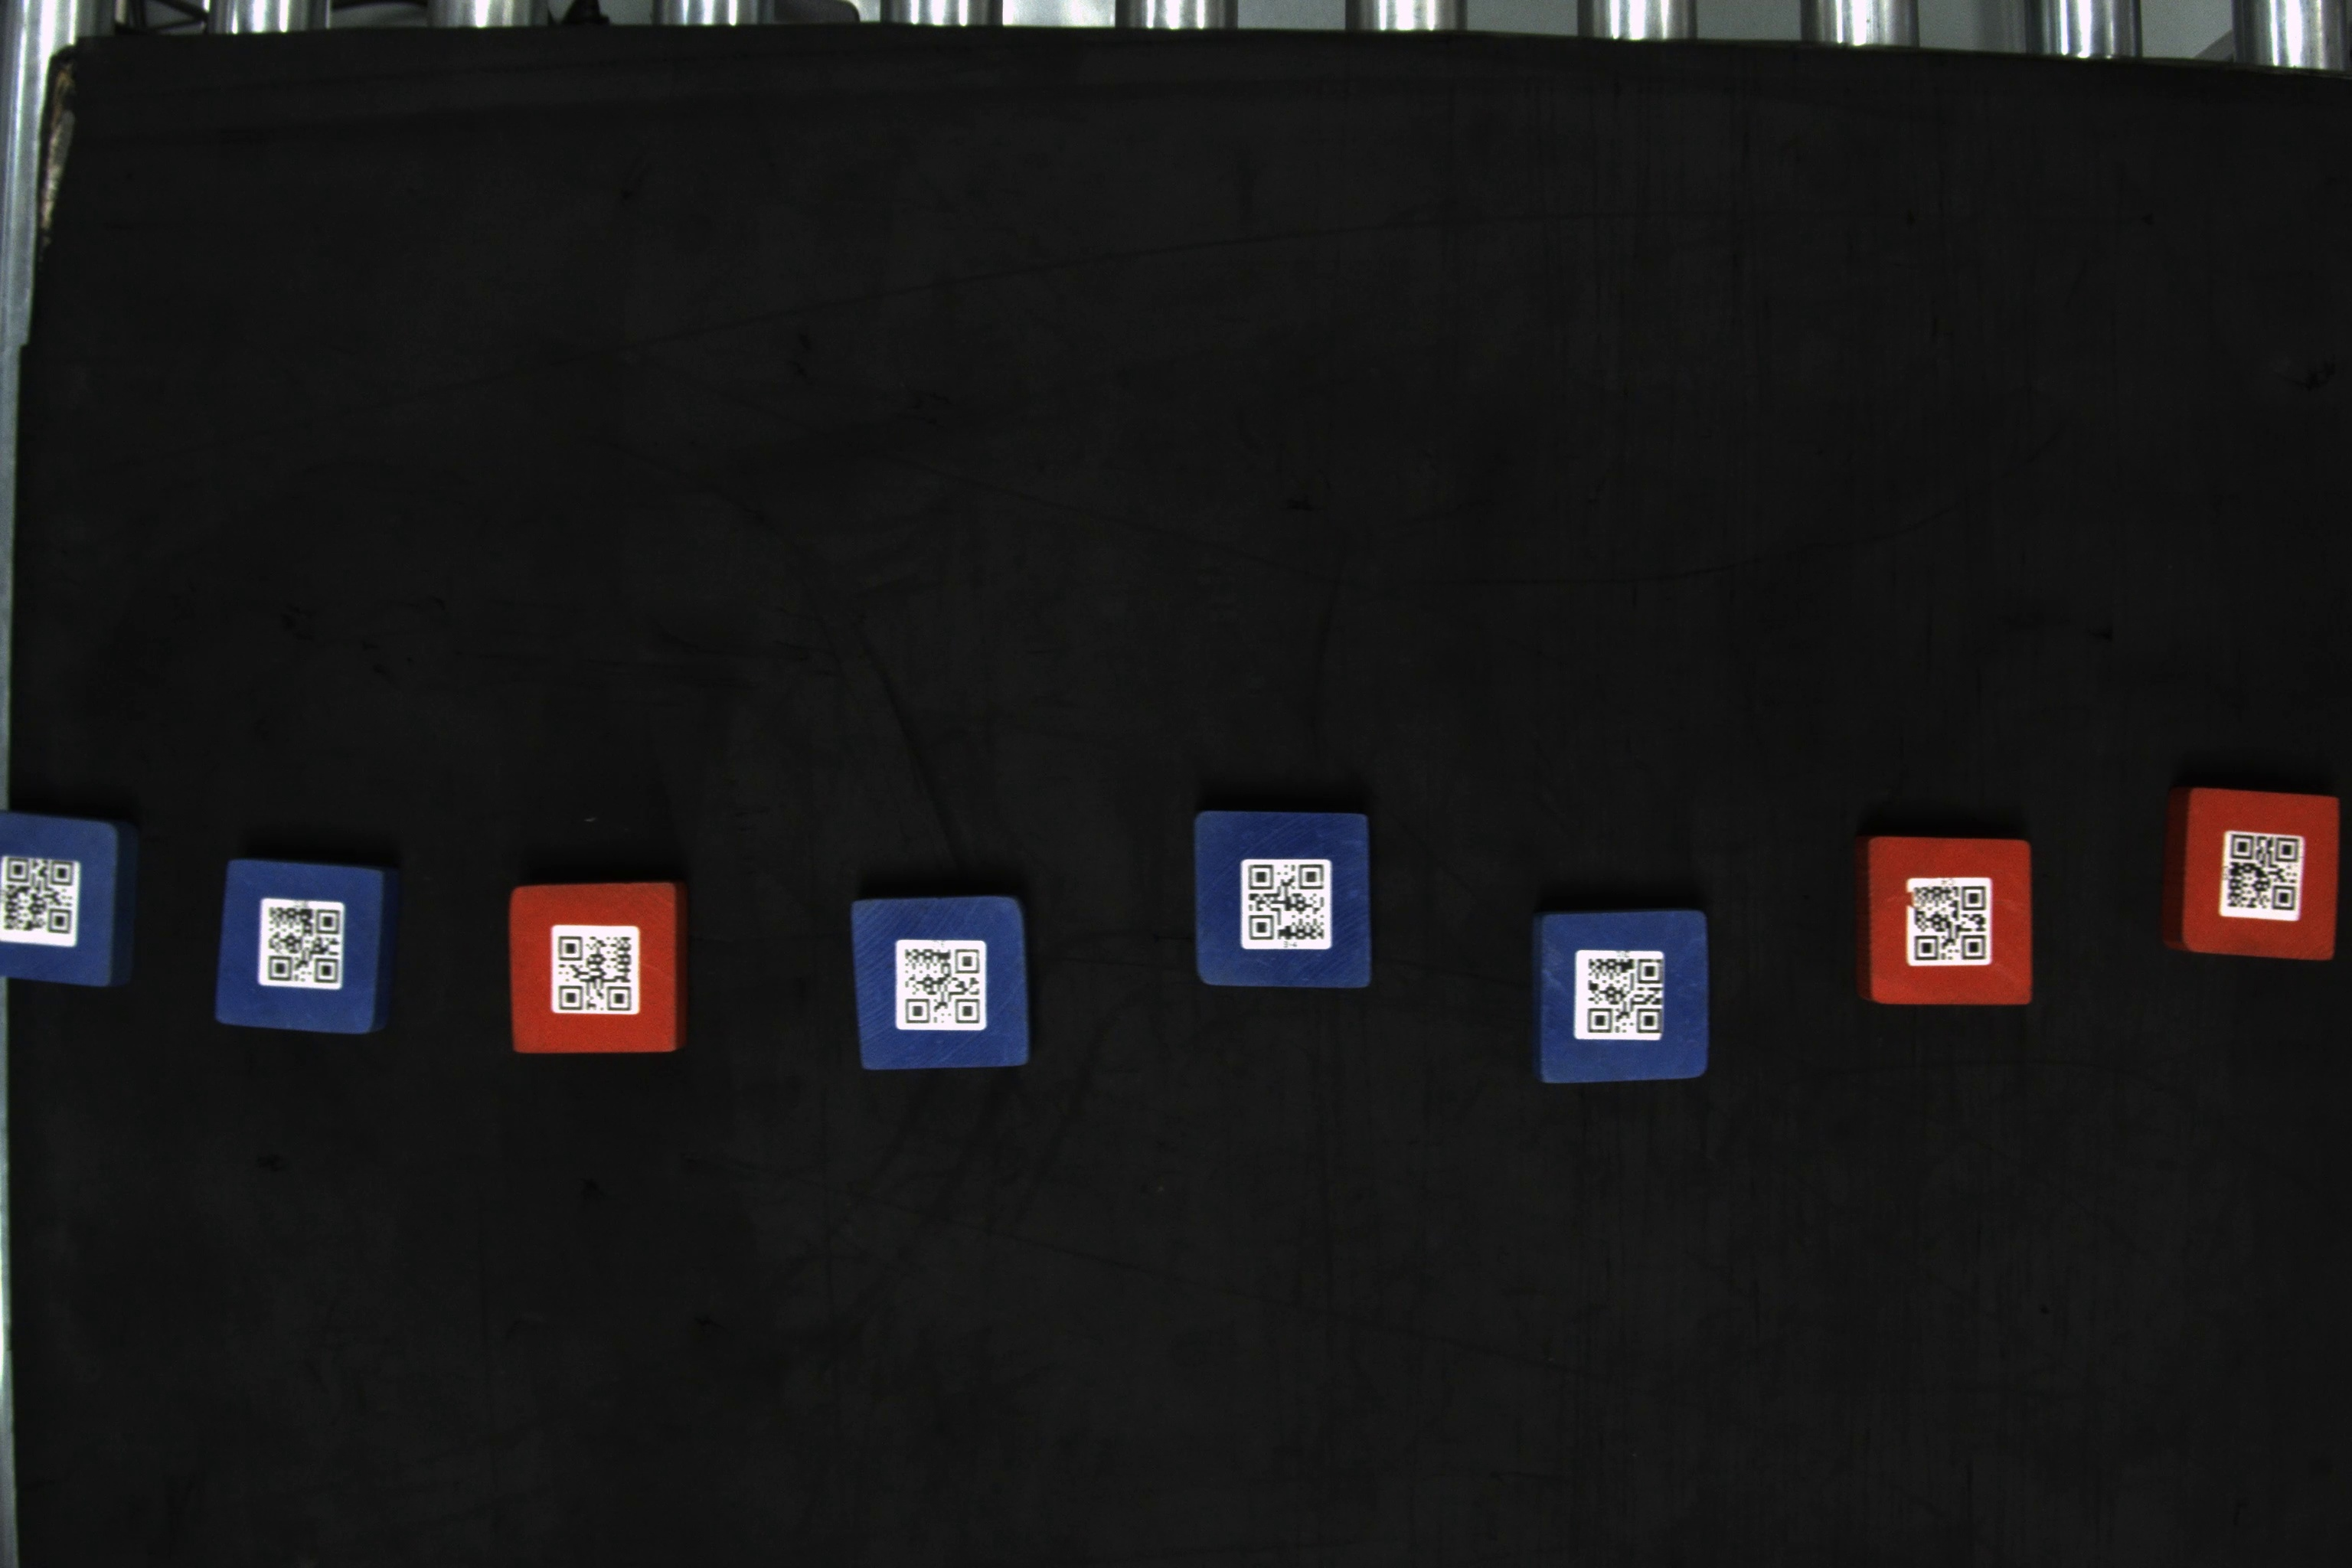wood: (1183, 801, 1382, 994), (843, 891, 1043, 1078), (2163, 779, 2347, 966), (507, 877, 695, 1055), (1853, 833, 2040, 1011), (1529, 912, 1718, 1088), (212, 857, 392, 1029), (5, 810, 145, 992)
